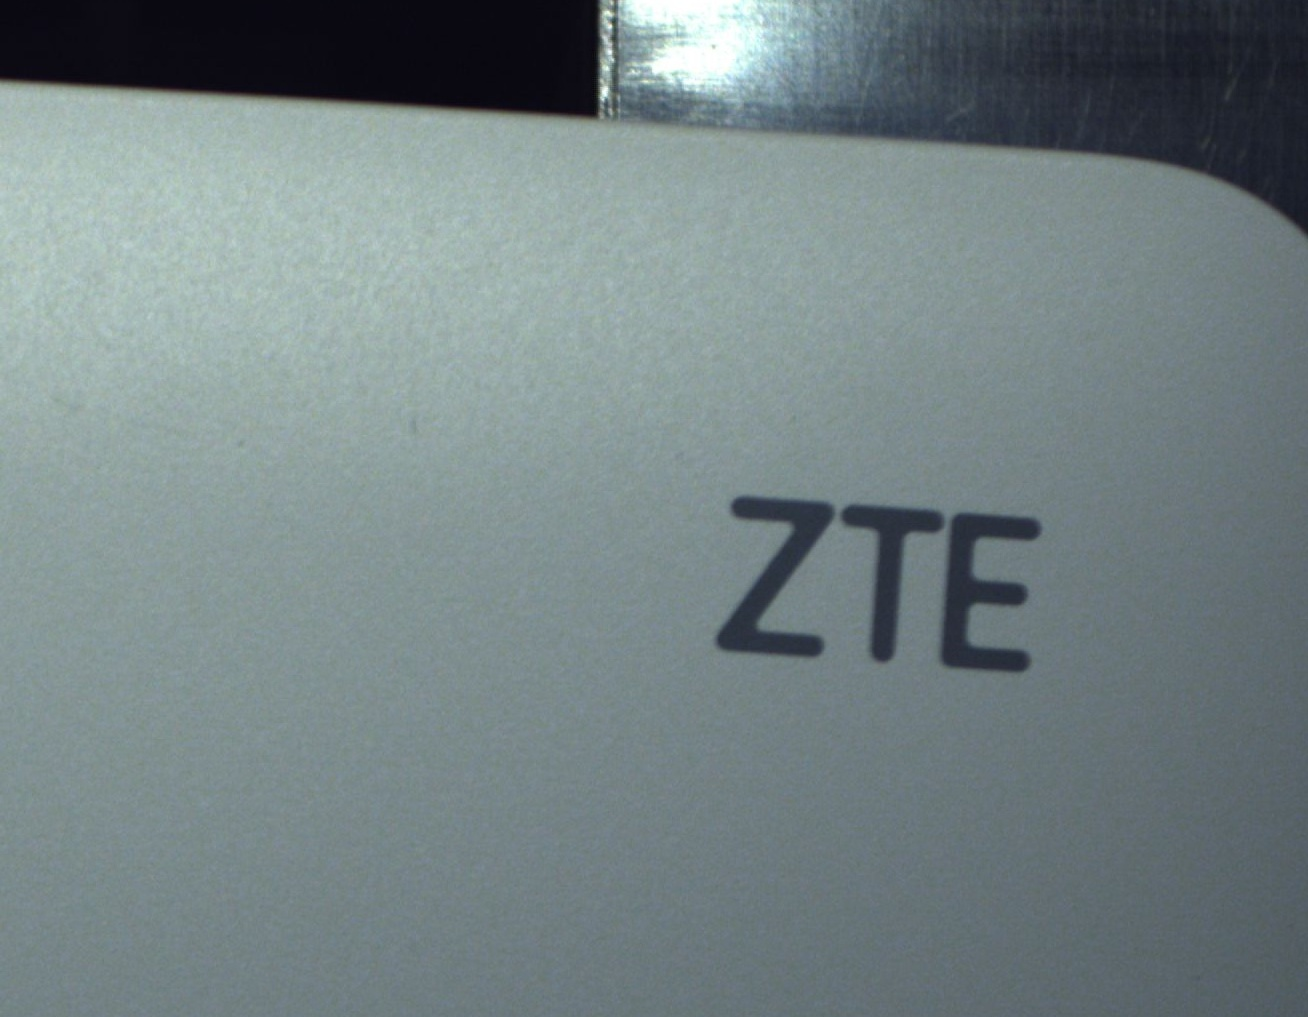AN_ZTE: (646, 450, 1114, 712)
